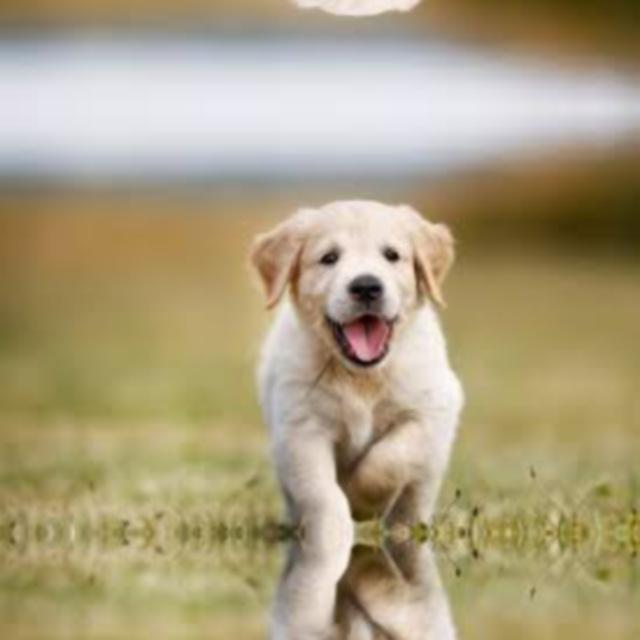dog: (226, 171, 494, 533), (226, 533, 494, 640), (226, 0, 494, 43)
